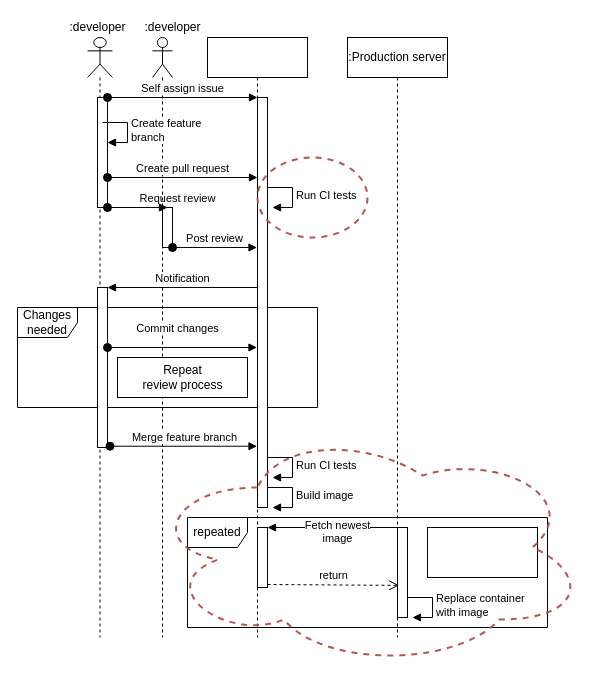
Some shapes in this 606 by 685 pixel diagram are drawn without their labels. Here are the shapes that lost their labels. From the top down, the centre of each, then its label:
At point (257, 337): "Github".
At point (482, 552): "This is automatically done at an interval".
